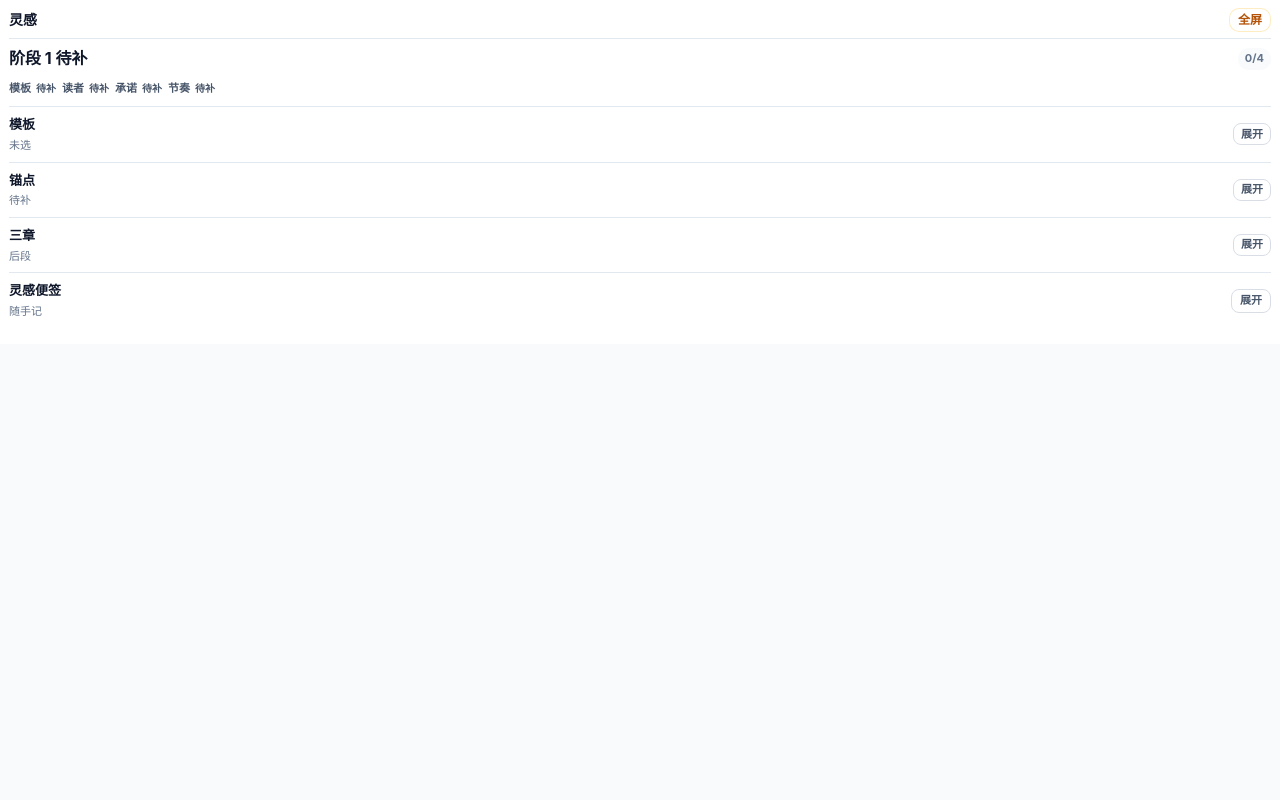
Test: InspirationPanel › collapses opening chapter planning after the first three chapters
Click the button with test id "inspiration-toggle-golden" at (1252, 245), box left=1233, top=234, right=1271, bottom=256
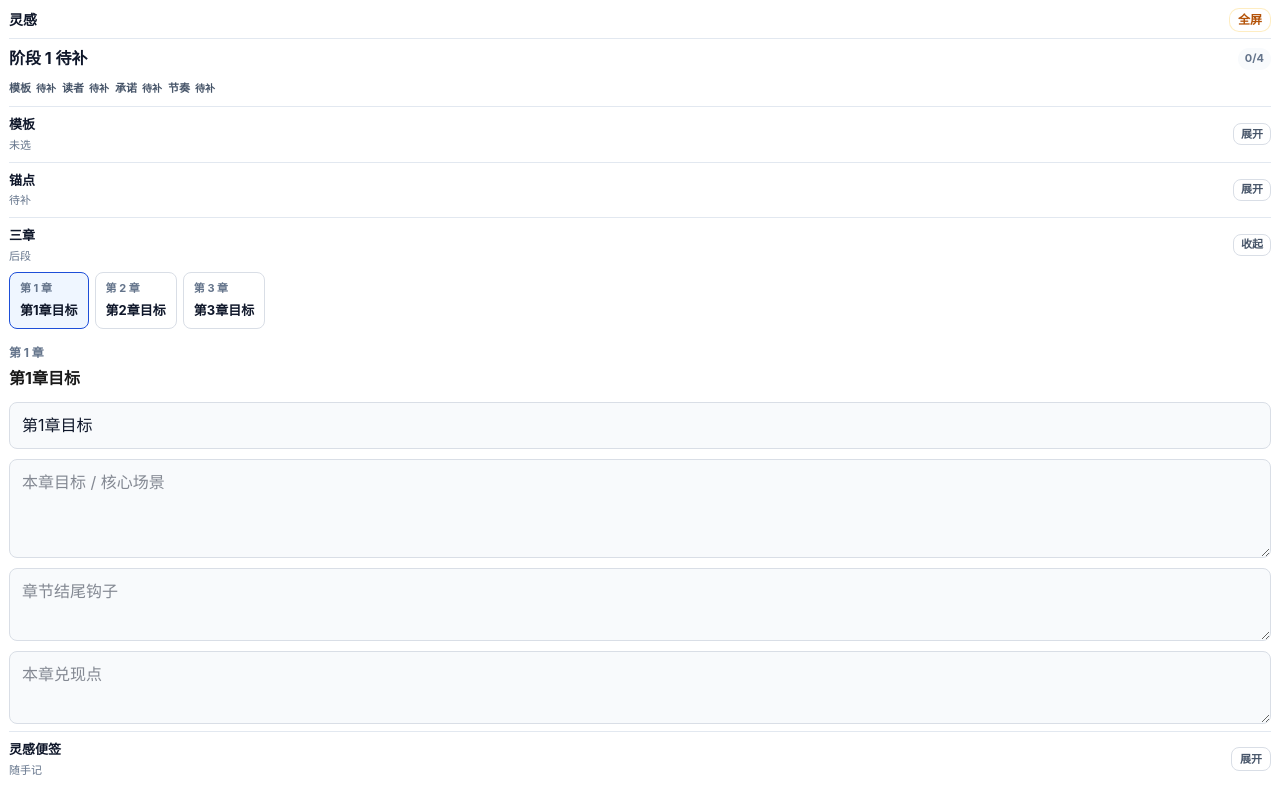
Expected: the field with test id "golden-chapter-title" is shown, left=9, top=402, right=1271, bottom=449
